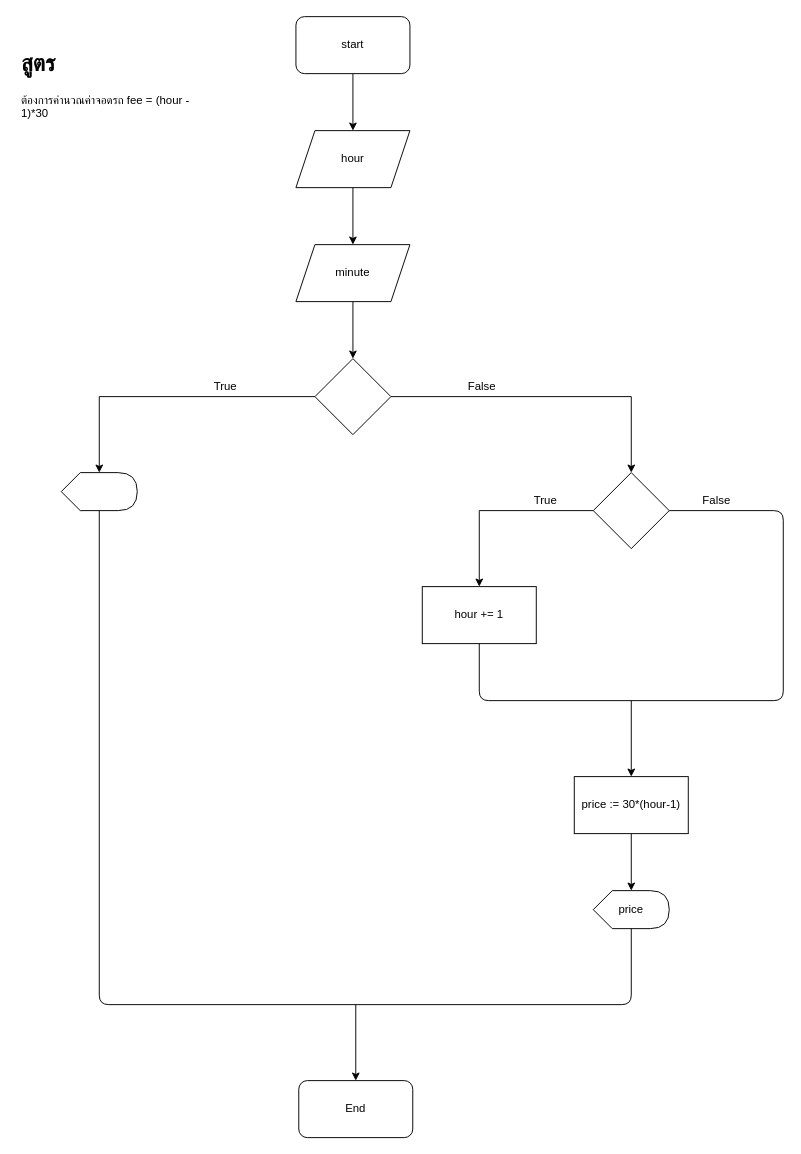
Some shapes in this 801 by 1154 pixel diagram are drawn without their labels. Here are the shapes that lost their labels. From the top down, the centre of each, then its label:
point 352,396: hour < 0 || minute < 0
point 98,491: "โปรดใส่.."
point 630,510: minute > 0 && minute < 60
